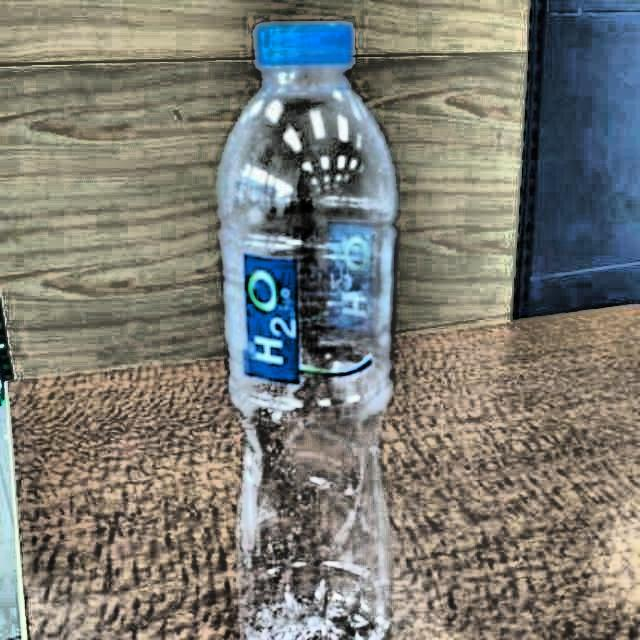Bottles: (219, 18, 406, 640)
